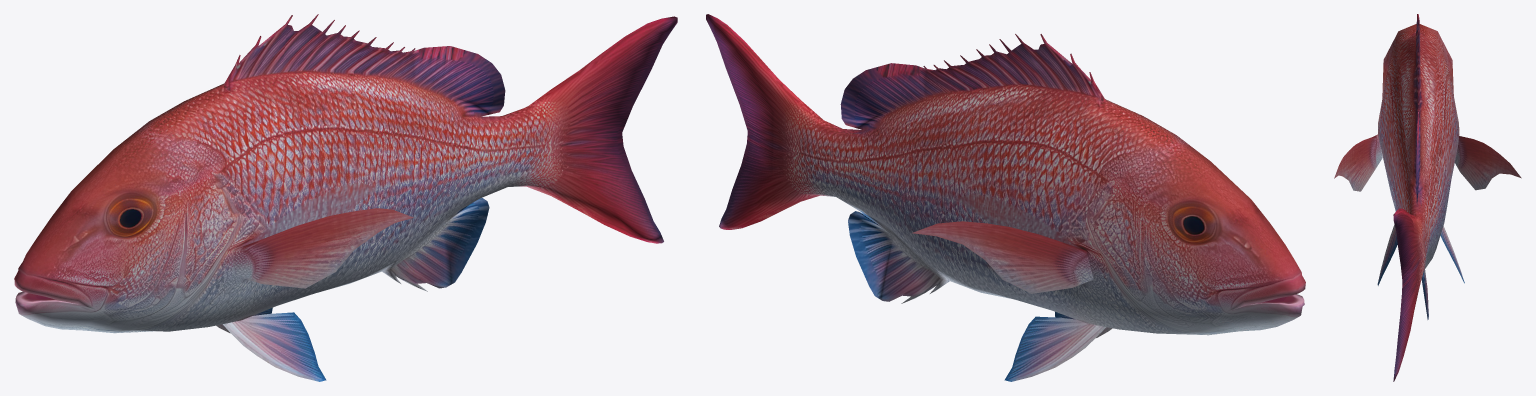
The model's file is snapper.glb.
The picture shows the model from 3 angles, left to right: view 1: azimuth 30°, elevation 25°; view 2: azimuth 150°, elevation 25°; view 3: azimuth 270°, elevation 25°; orthographic projection. The views are drawn at different scales.
Visible parts, largest first — view 1: tripo_node_5cb3ccb2-43fd-421b-8135-86e4511b3312; view 2: tripo_node_5cb3ccb2-43fd-421b-8135-86e4511b3312; view 3: tripo_node_5cb3ccb2-43fd-421b-8135-86e4511b3312.
Part boxes in pixels (<box>): tripo_node_5cb3ccb2-43fd-421b-8135-86e4511b3312: <box>14,14,677,381</box>; tripo_node_5cb3ccb2-43fd-421b-8135-86e4511b3312: <box>706,14,1305,381</box>; tripo_node_5cb3ccb2-43fd-421b-8135-86e4511b3312: <box>1334,14,1521,381</box>.
Bounding box in the file's own units: 0.9995 × 0.5151 × 0.3276.
1 material, 1 textured.
